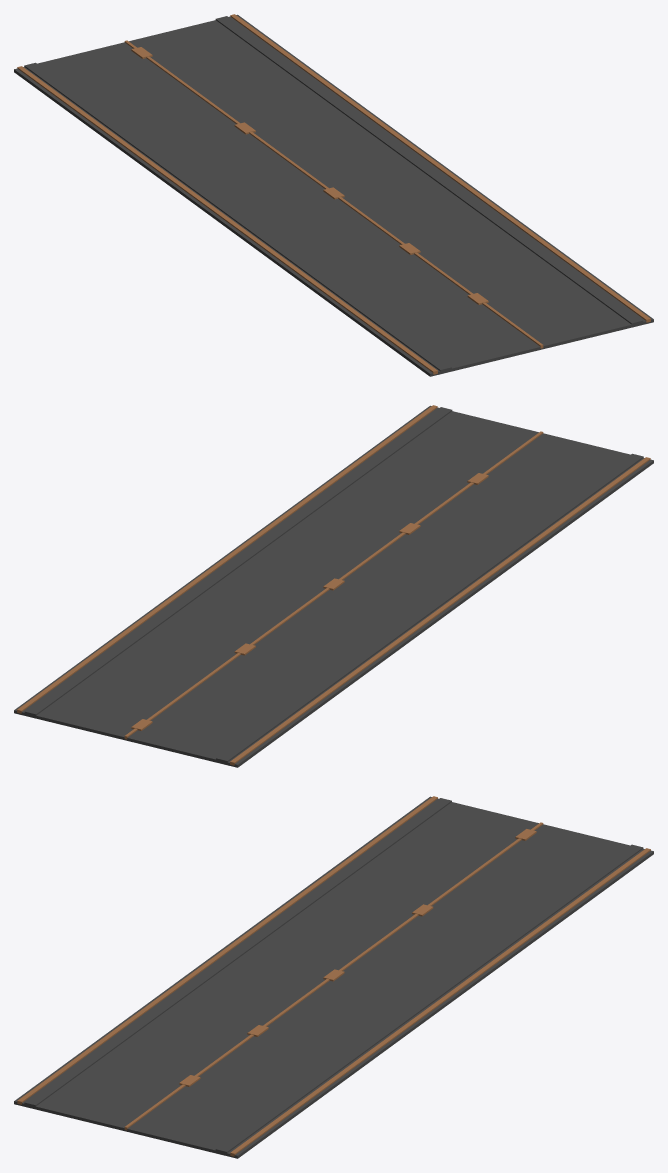
Rendered from Road.fbx.
3 views of the same model, one above another, from view 1: azimuth 30°, elevation 25°; view 2: azimuth 150°, elevation 25°; view 3: azimuth 330°, elevation 25° (orthographic).
Visible parts, largest first — view 1: Road; view 2: Road; view 3: Road.
Part boxes in pixels (x1,y1,x2,y2): Road: (14,14,653,376); Road: (14,405,653,767); Road: (14,796,653,1158).
Bounding box in the file's own units: 805 × 15.64 × 2592.
